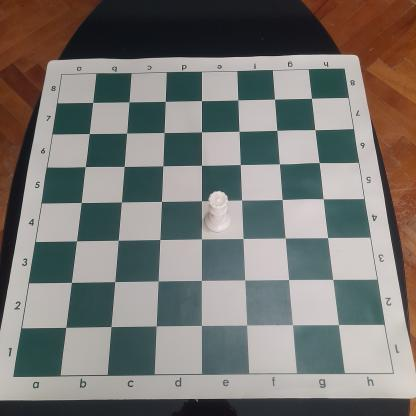white-queen: (203, 190, 233, 234)
